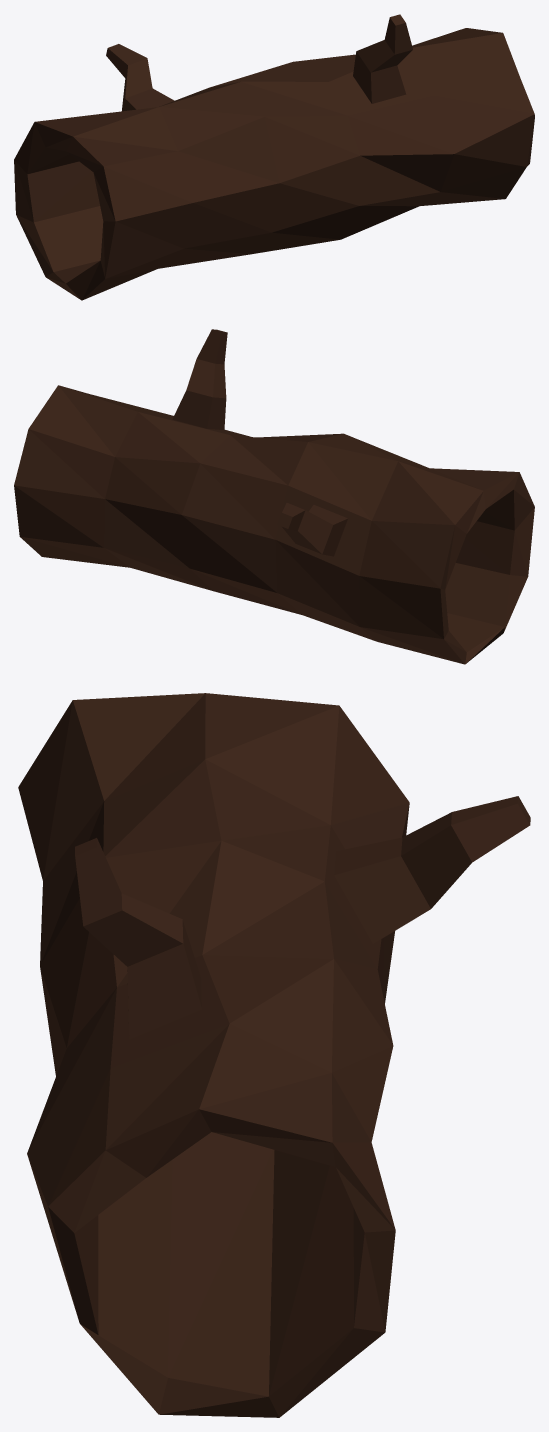
File: Dandelion_Buche1_Normal.FBX
3 renders of one model, top to bottom at view 1: azimuth 30°, elevation 25°; view 2: azimuth 150°, elevation 25°; view 3: azimuth 270°, elevation 25°, orthographic. The views are drawn at different scales.
Parts seen in each view (by area): view 1: Cylinder038; view 2: Cylinder038; view 3: Cylinder038.
Part boxes in pixels (<box>): Cylinder038: <box>14,14,534,300</box>; Cylinder038: <box>14,329,534,664</box>; Cylinder038: <box>18,693,530,1417</box>.
Size of the model in its own units: 828 by 402 by 415.
